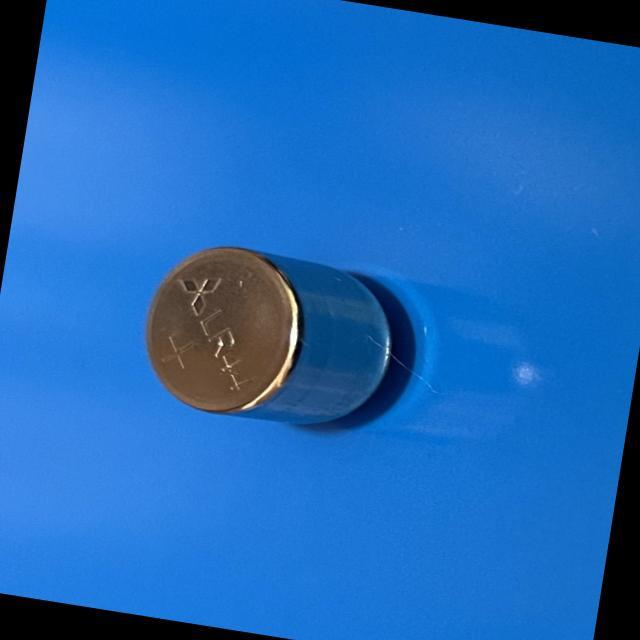COIN: (130, 231, 417, 444)
